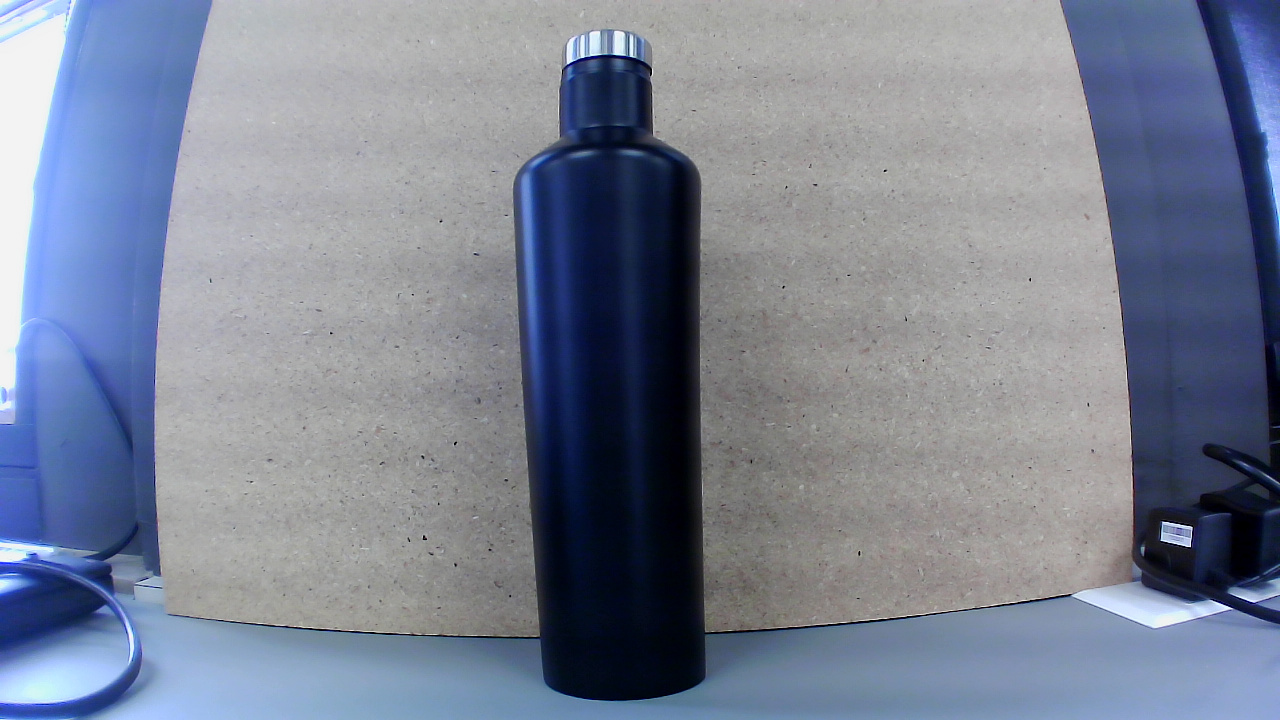neobottle: (503, 24, 717, 708)
